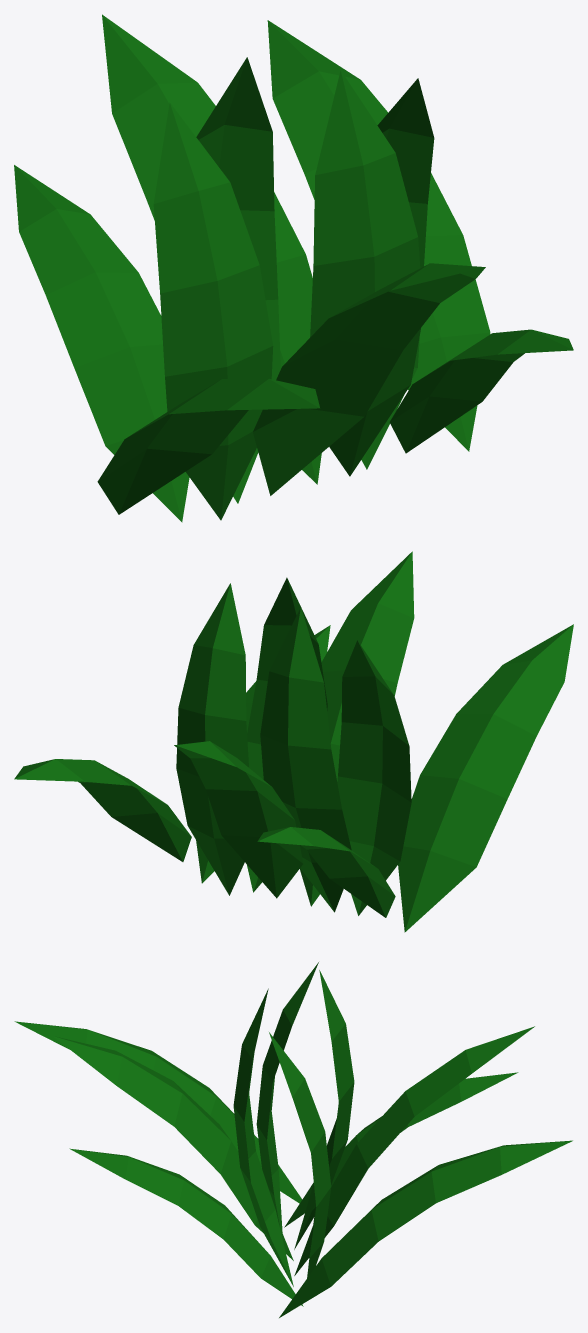
The model's file is Grass_3.fbx.
The picture shows the model from 3 angles, top to bottom: view 1: azimuth 30°, elevation 25°; view 2: azimuth 150°, elevation 25°; view 3: azimuth 270°, elevation 25°; orthographic projection. The views are drawn at different scales.
Visible parts, largest first — view 1: Grass_3; view 2: Grass_3; view 3: Grass_3.
Boxes of the visible parts, left/top/right/bottom form: Grass_3: left=14, top=14, right=573, bottom=522; Grass_3: left=14, top=551, right=573, bottom=932; Grass_3: left=14, top=962, right=572, bottom=1317.
Size of the model in its own units: 0.9829 by 0.8765 by 1.51.
